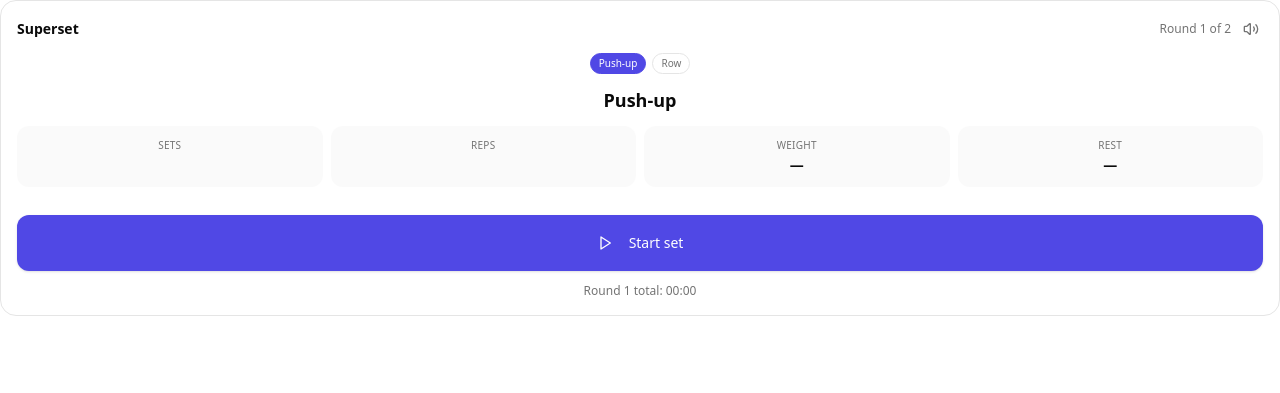
SupersetPanel lead-in › does not repeat the lead-in for the second exercise in the same round
Click the button "Start set". click: (640, 243)
box: [17,215,1263,271]
Wait 10000 ms
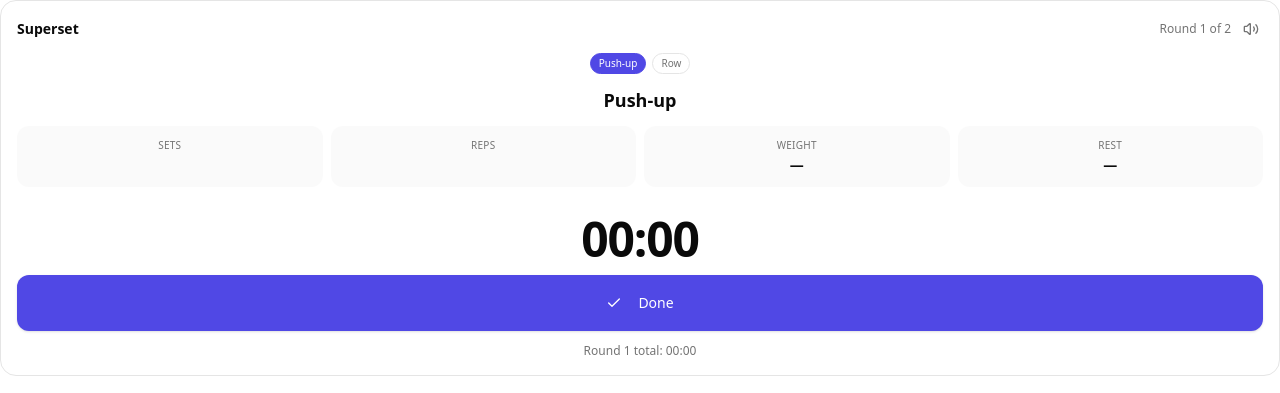
Click the button "Done". click: (640, 303)
box: [17,275,1263,331]
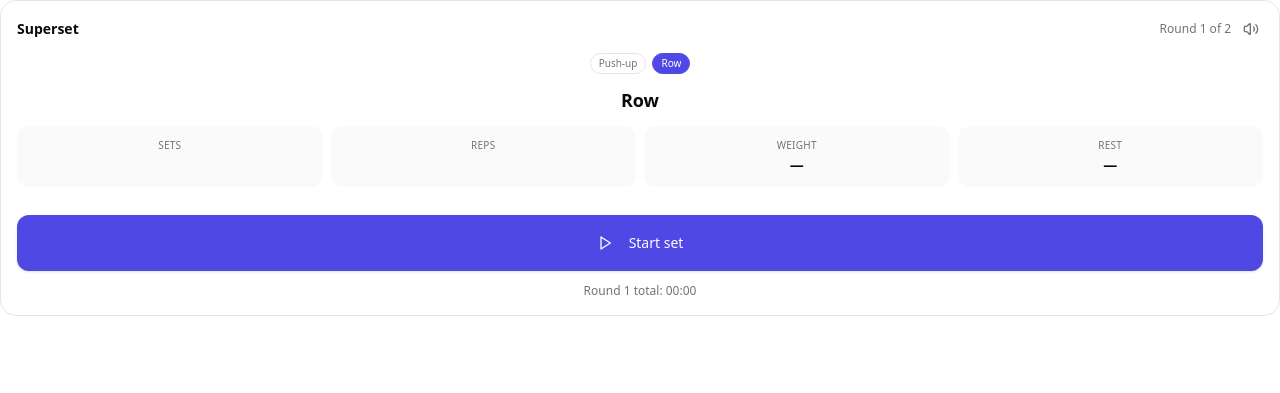
Click the button "Start set". click: (640, 243)
box: [17,215,1263,271]
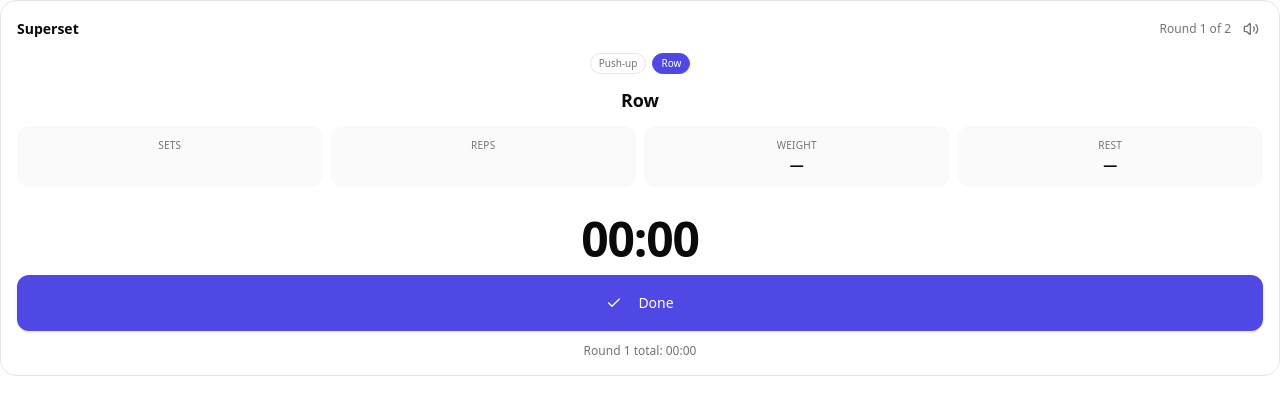
Expected: the button "Done" is shown, [17,275,1263,331]
